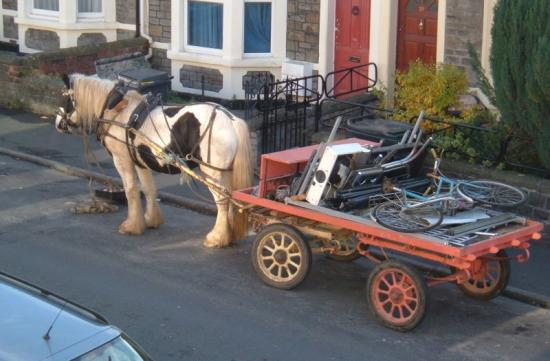horse: (51, 65, 254, 250)
